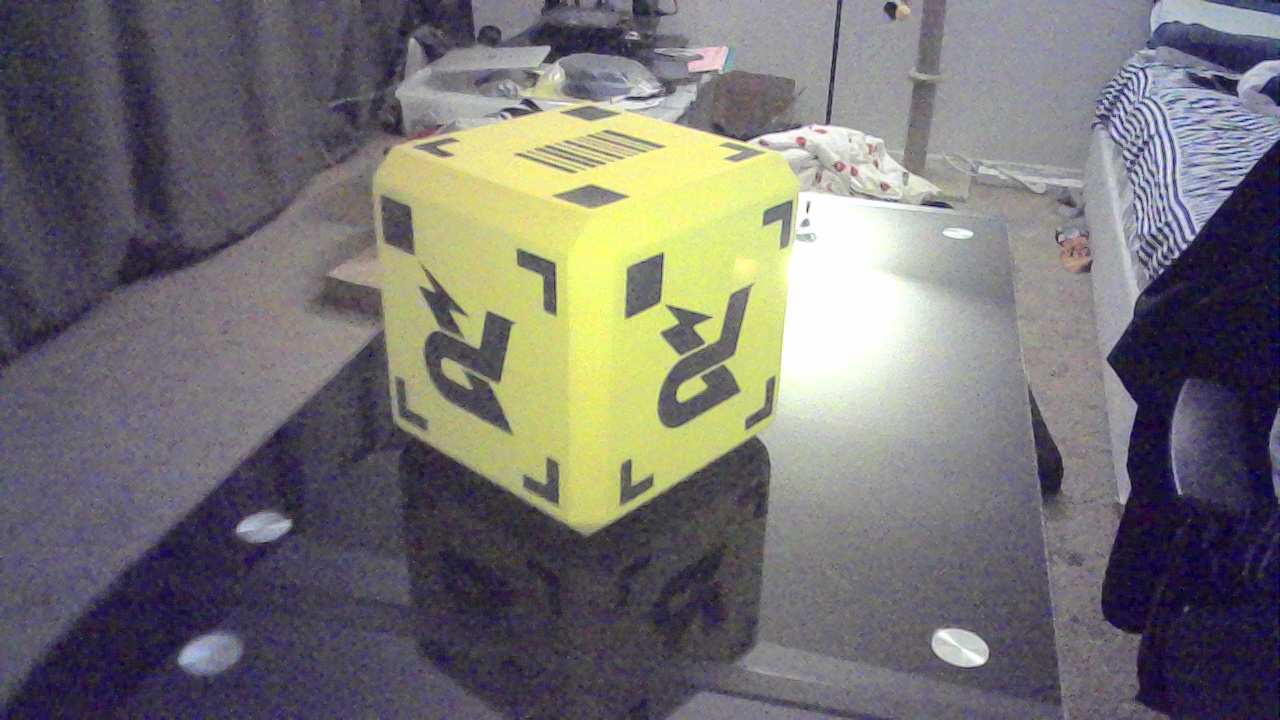Barcode: (523, 121, 683, 187)
R: (411, 266, 530, 436), (655, 297, 763, 430)
